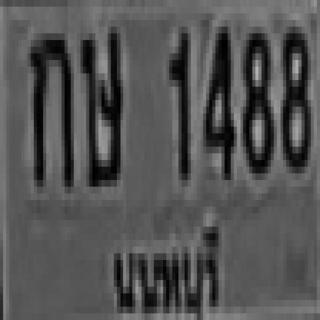A01: (28, 30, 73, 188)
A39: (80, 25, 123, 185)
N01: (169, 27, 191, 180)
N04: (203, 23, 237, 177)
N08: (242, 27, 273, 174), (282, 21, 310, 168)
P37: (105, 213, 222, 320)
